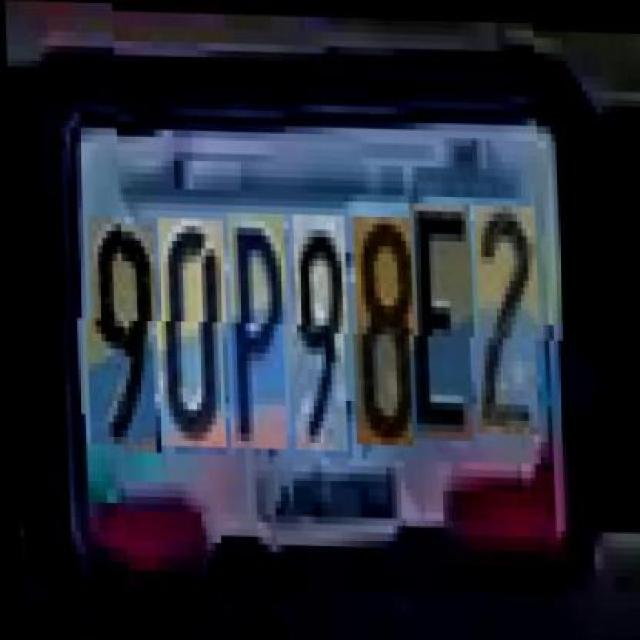0: (155, 216, 228, 447)
2: (472, 202, 540, 432)
8: (352, 214, 419, 443)
9: (85, 222, 158, 452), (291, 212, 349, 450)
e: (407, 200, 475, 438)
p: (226, 210, 288, 448)
